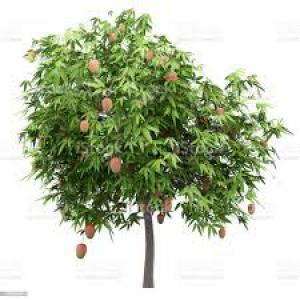Tree: (16, 7, 281, 284)
